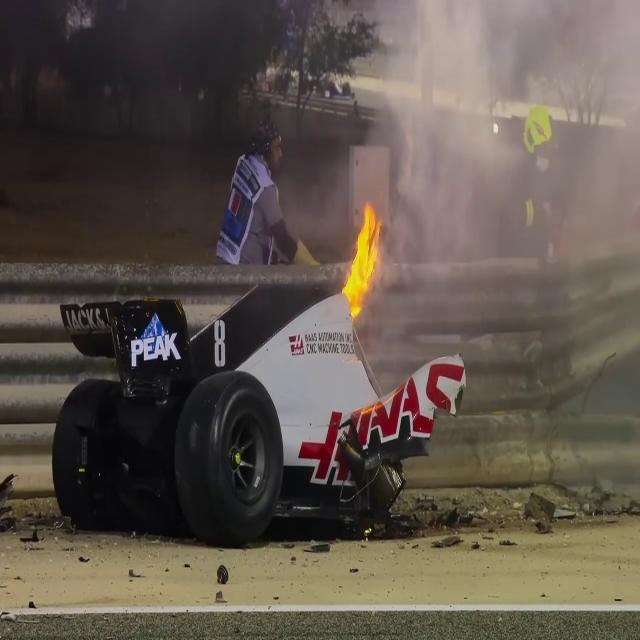Fire: (342, 194, 384, 318)
Smoke: (375, 0, 640, 356)
